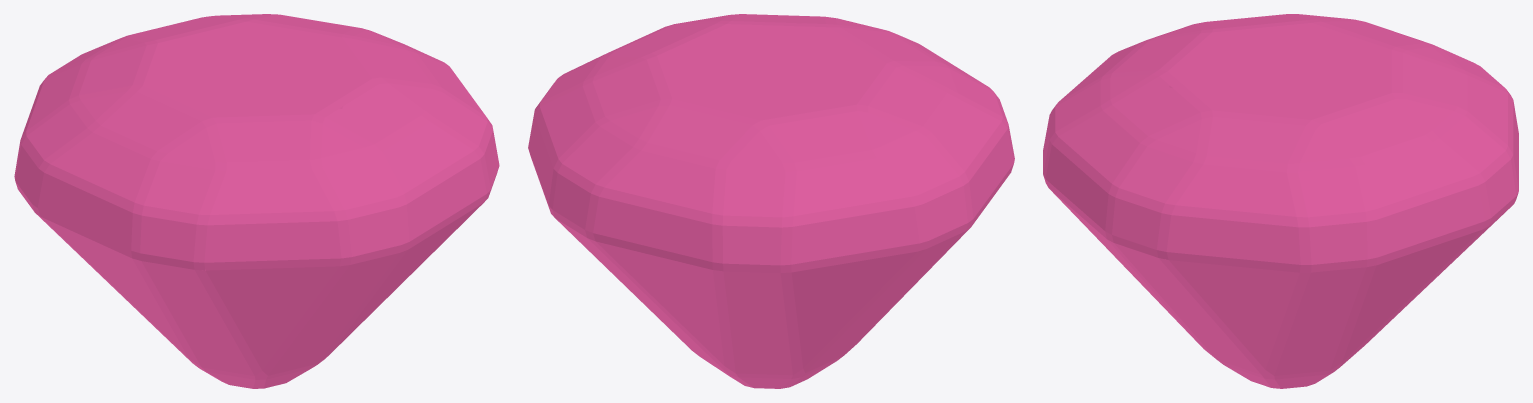
File: token.glb
3 views of the same model, side by side, from view 1: azimuth 30°, elevation 25°; view 2: azimuth 150°, elevation 25°; view 3: azimuth 270°, elevation 25° (orthographic).
Parts seen in each view (by area): view 1: Cone; view 2: Cone; view 3: Cone.
Boxes of the visible parts, <box> form: Cone: <box>14,14,499,388</box>; Cone: <box>528,14,1014,388</box>; Cone: <box>1043,14,1518,388</box>.
Bounding box in the file's own units: 1.71 × 1.18 × 1.67.
1 material, 1 textured.
